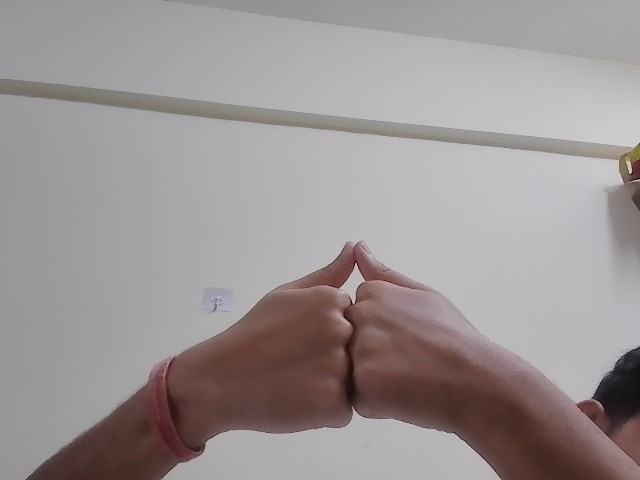A: (192, 239, 495, 437)
